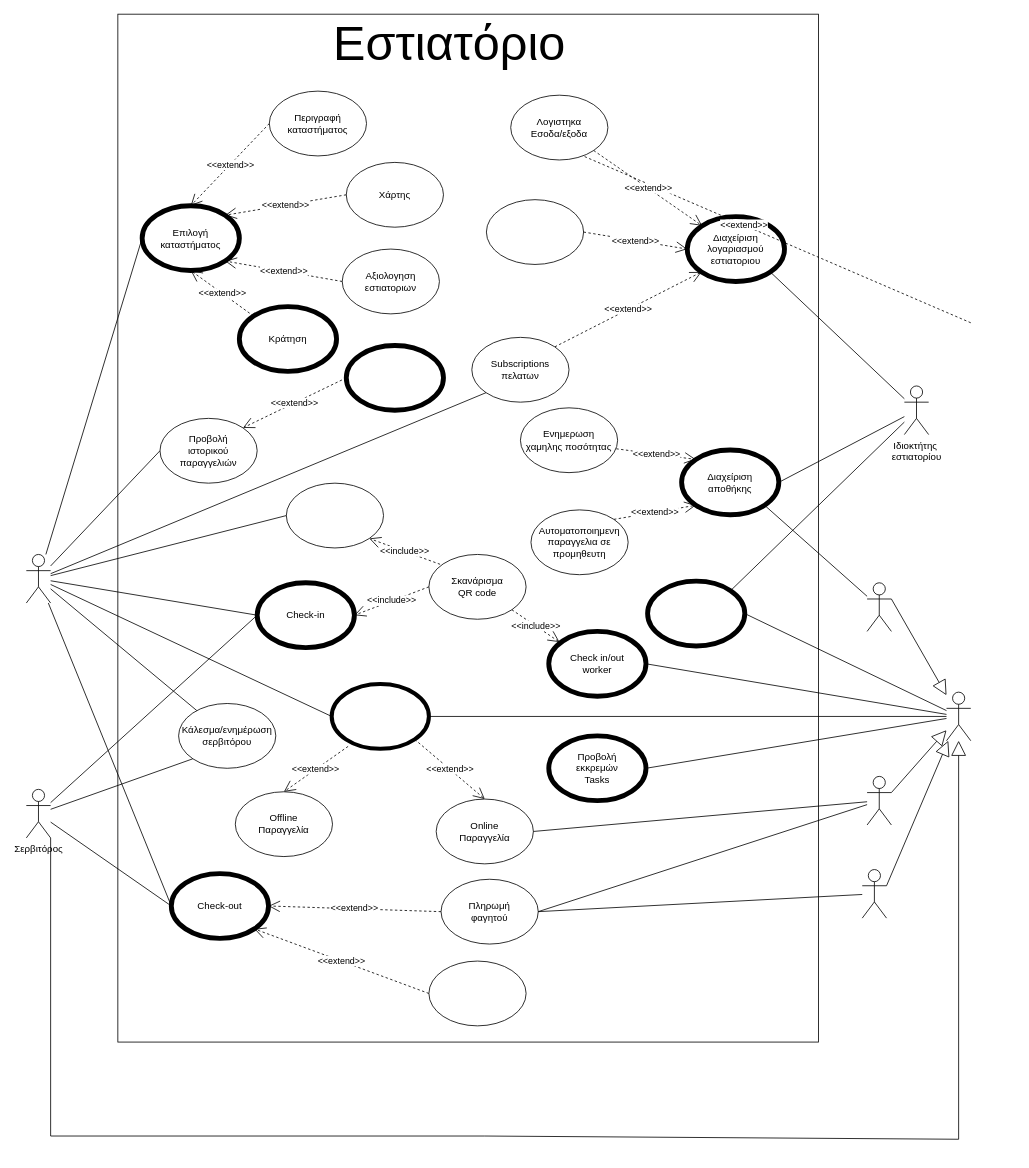
This 1029x1168 diagram has some shape labels left out. Here are the shapes that lost their labels. From the top down, the box of each, then its label:
(486, 199, 584, 264): Προβολή στατιστικών
(343, 343, 446, 412): Προτασεις φαγητων
(286, 482, 384, 548): Προβολή μενου
(26, 554, 51, 603): Πελάτης εστιατορίου
(645, 578, 747, 648): Προβολή εβδομαδιαίου προγράμματος
(866, 582, 891, 631): Μάγειρας
(329, 682, 431, 750): Παραγγελία
(946, 691, 971, 741): Υπάλληλος
(866, 776, 891, 825): Διανομέας
(861, 869, 887, 918): Ταμείας
(428, 960, 526, 1026): Προβολη λογαριασμου φαγητου
